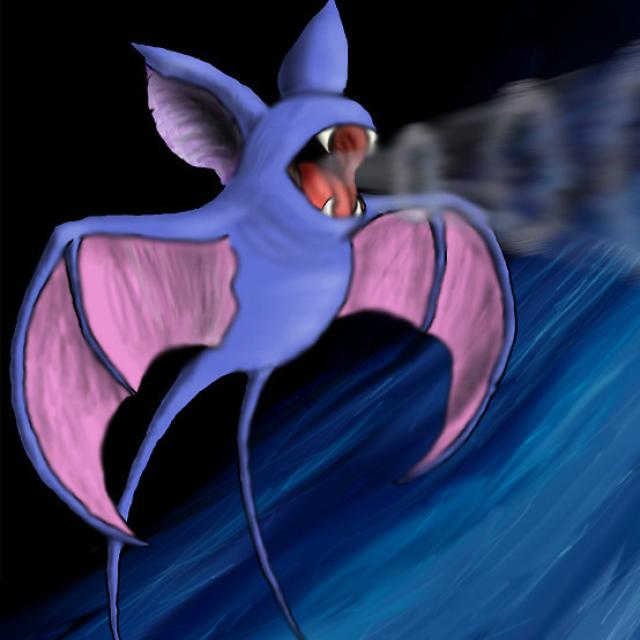Zubat: (78, 41, 420, 470)
